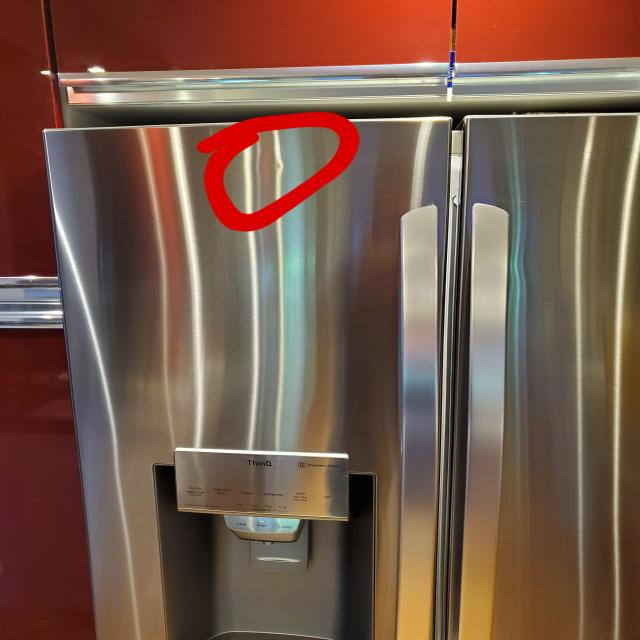dents: (270, 154, 288, 180)
